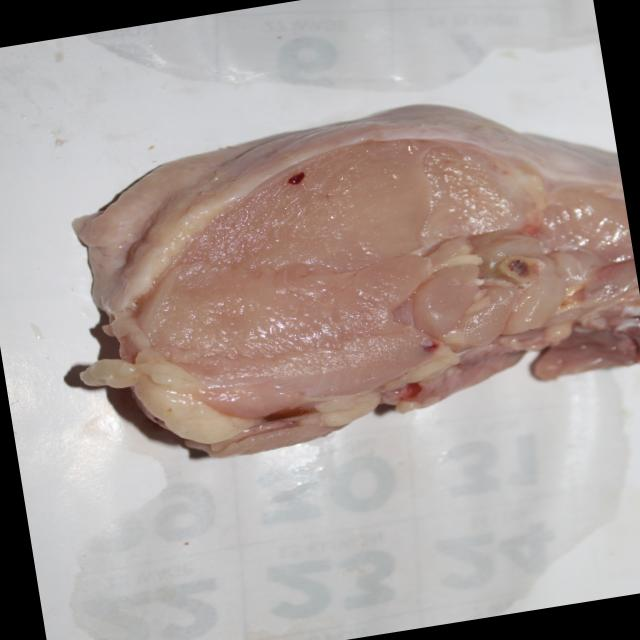Ayam: (63, 77, 640, 473)
